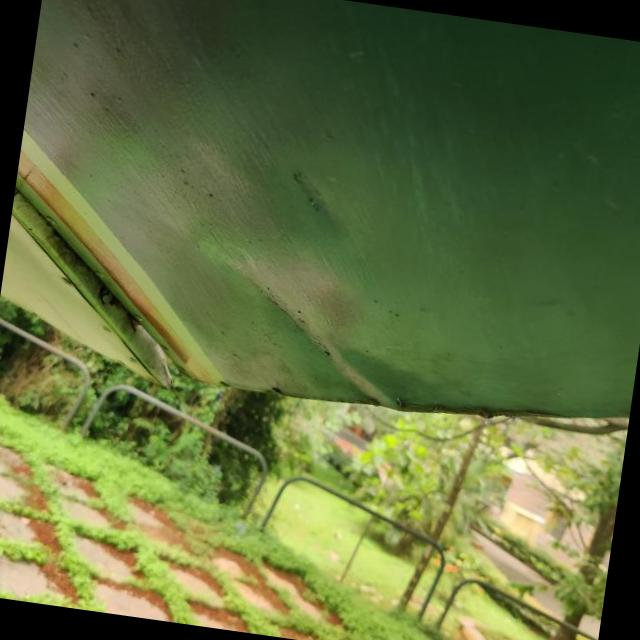Dent: (194, 235, 438, 410), (279, 163, 352, 242)
